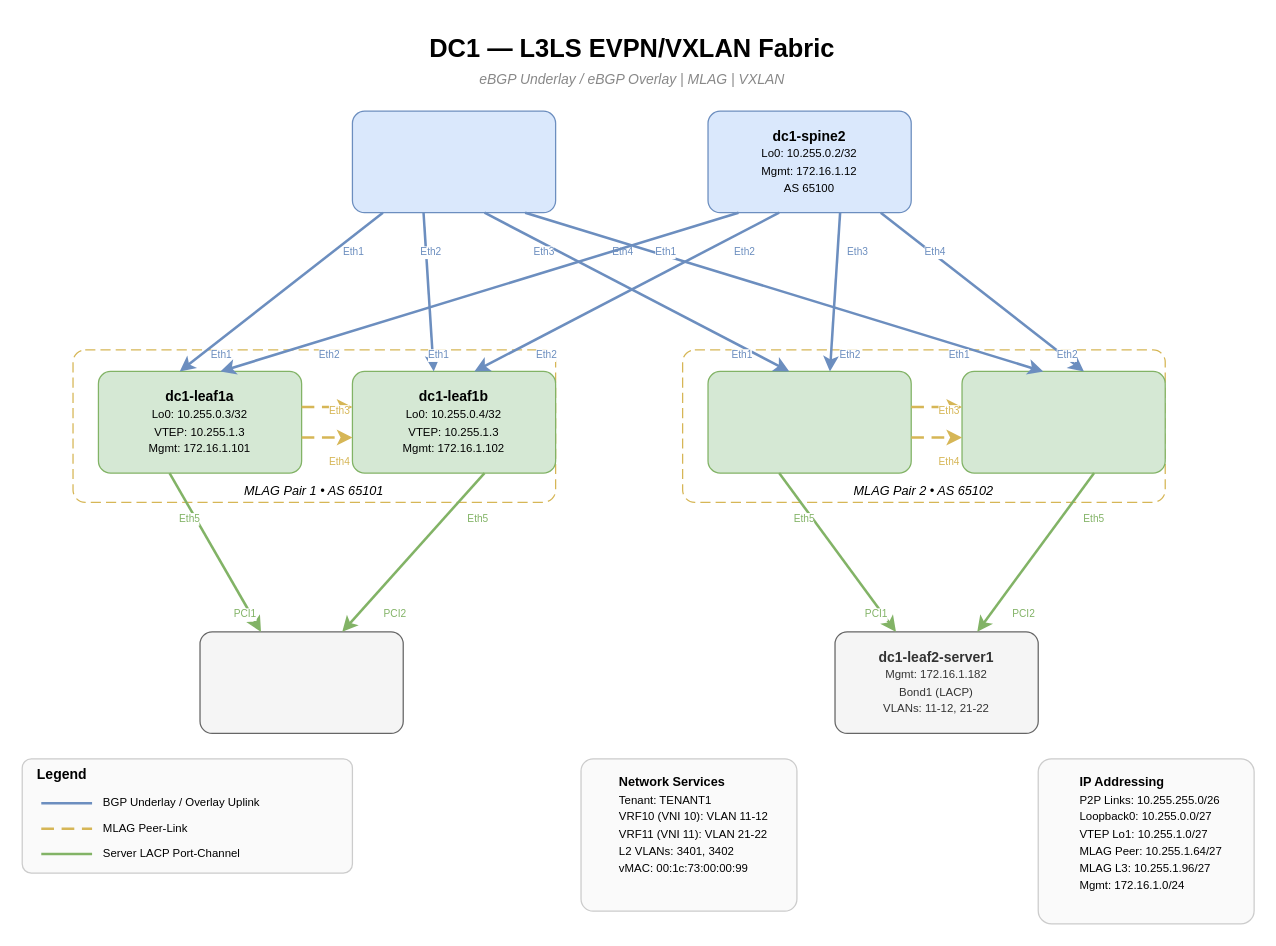
Some shapes in this 1276 by 946 pixel diagram are drawn without their labels. The centre of each missing label's shape, as x and y in pixels:
"dc1-leaf1-server1 Mgmt: 172.16.1.181 Bond1 (LACP) VLANs: 11-12, 21-22" belongs at (x=301, y=682).
"dc1-leaf2a Lo0: 10.255.0.5/32 VTEP: 10.255.1.5 Mgmt: 172.16.1.103" belongs at (x=809, y=421).
"dc1-leaf2b Lo0: 10.255.0.6/32 VTEP: 10.255.1.5 Mgmt: 172.16.1.104" belongs at (x=1063, y=421).
"dc1-spine1 Lo0: 10.255.0.1/32 Mgmt: 172.16.1.11 AS 65100" belongs at (x=453, y=161).
